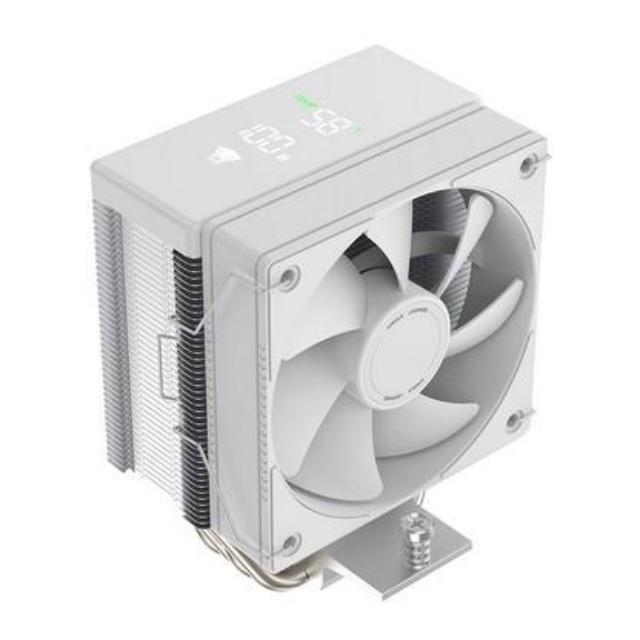CPU_Fan: (89, 43, 551, 603)
